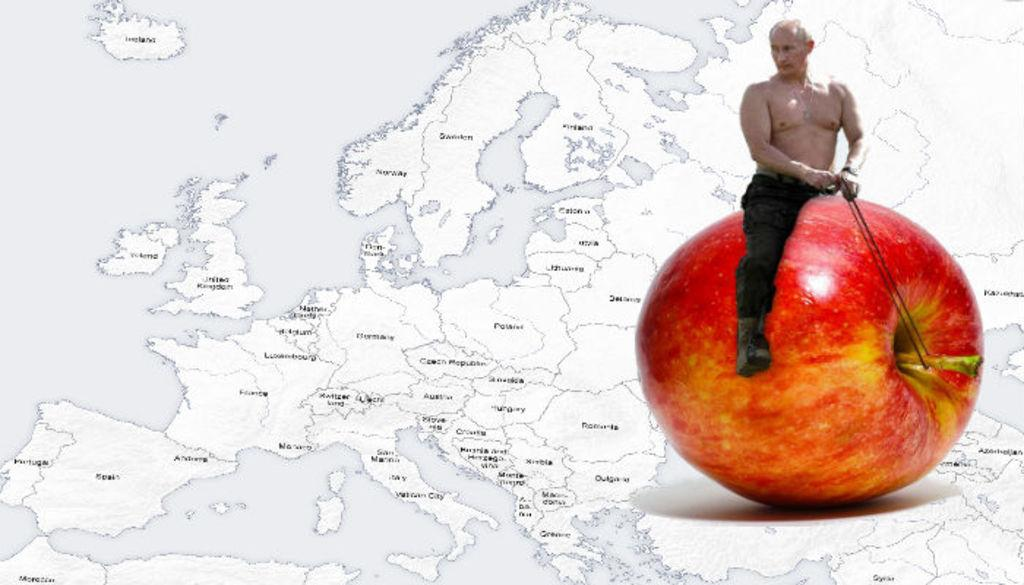Apple: (646, 155, 978, 525)
